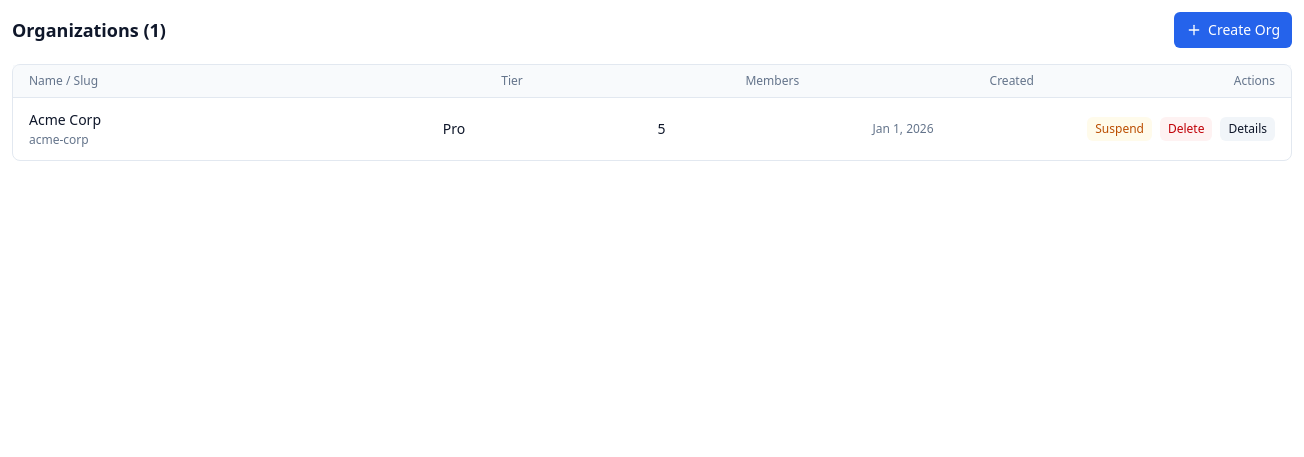
OrgManager › opens suspend dialog on Suspend button click
This screenshot has width=1304, height=457.
Click the button with test id "suspend-btn-org_1". click: (1120, 129)
box: [1087,117,1152,141]
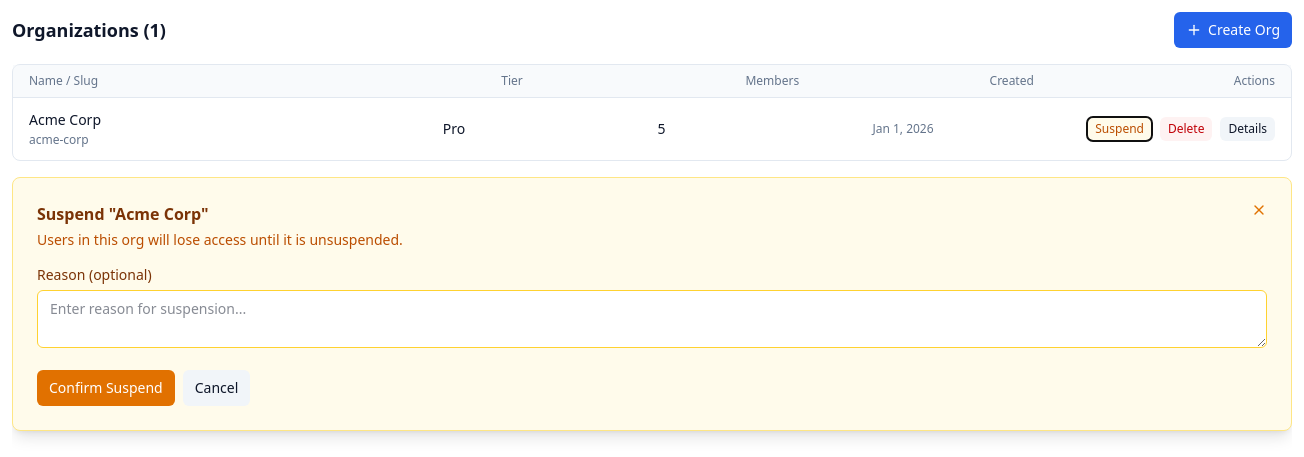
Check: the element with test id "suspend-confirm-dialog" is shown, box [12,177,1292,431]
